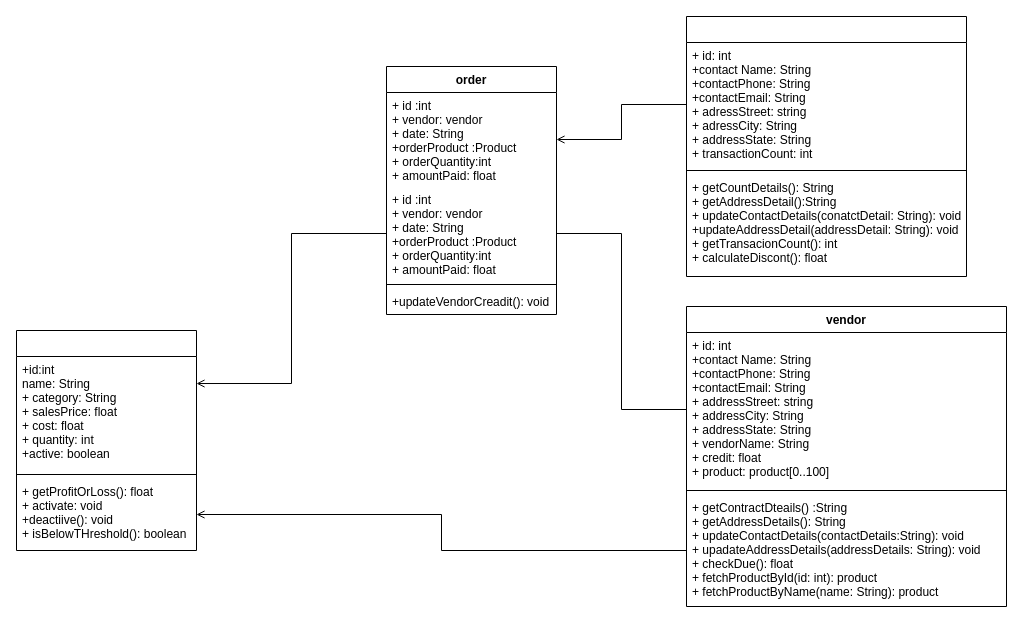
Image size: 1023x623. Some labels were removed from this diagram. The box of each missing label's shape, as (x1, y1, x2, y2) in pixels:
customer: (686, 16, 966, 276)
PRODUCT: (16, 330, 196, 550)
